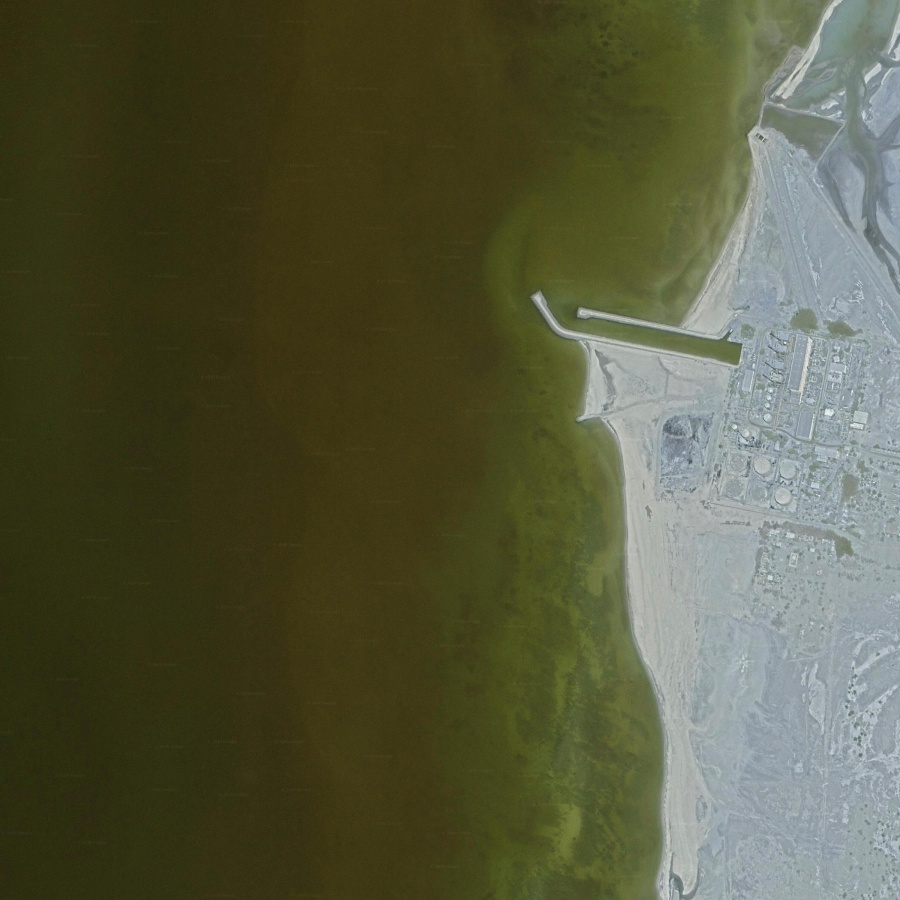PowerPlant: (649, 320, 877, 523)
